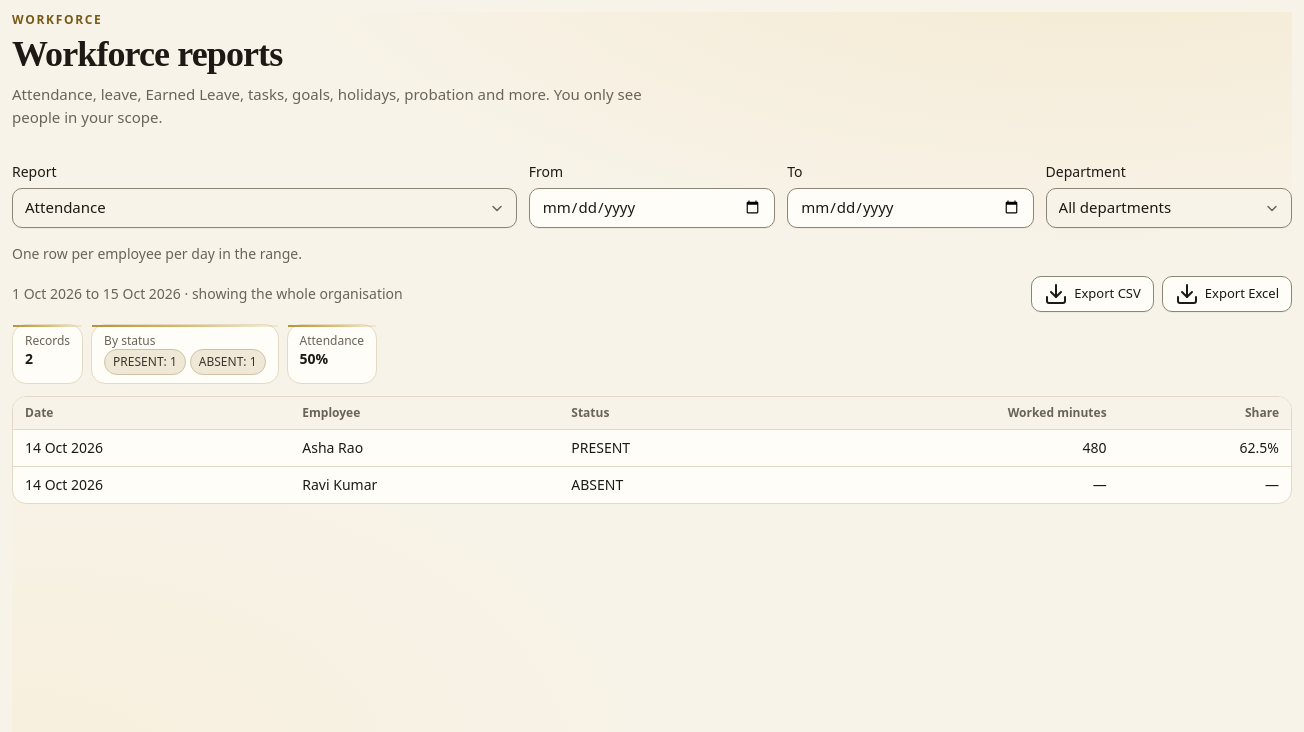
Test: ReportsPage › exports via an authenticated download, reports the row count, and shows a failure honestly
Click the button "Export CSV" at [1093, 294], box [1031, 276, 1154, 312]
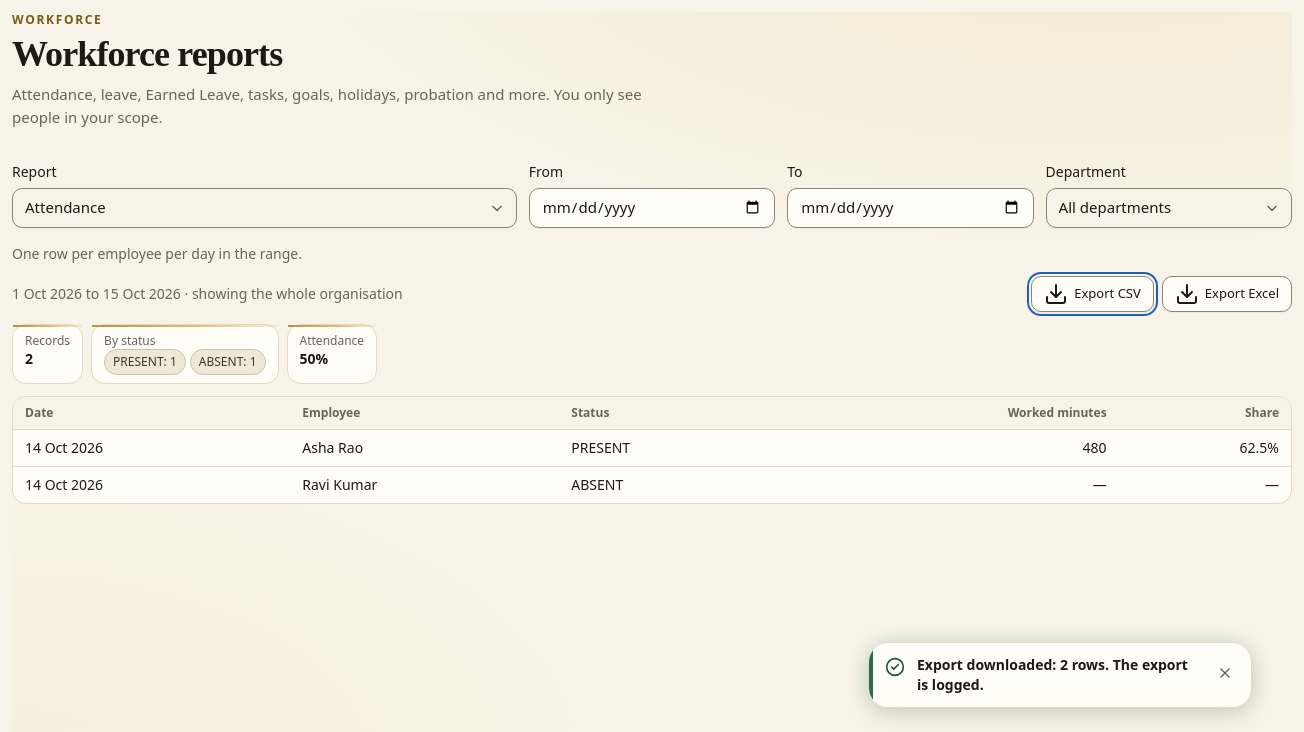
Expected: the text "Export downloaded: 2 rows. The export is logged." is shown, [917, 655, 1195, 695]
Click the button "Export Excel" at [1227, 294], box [1162, 276, 1292, 312]
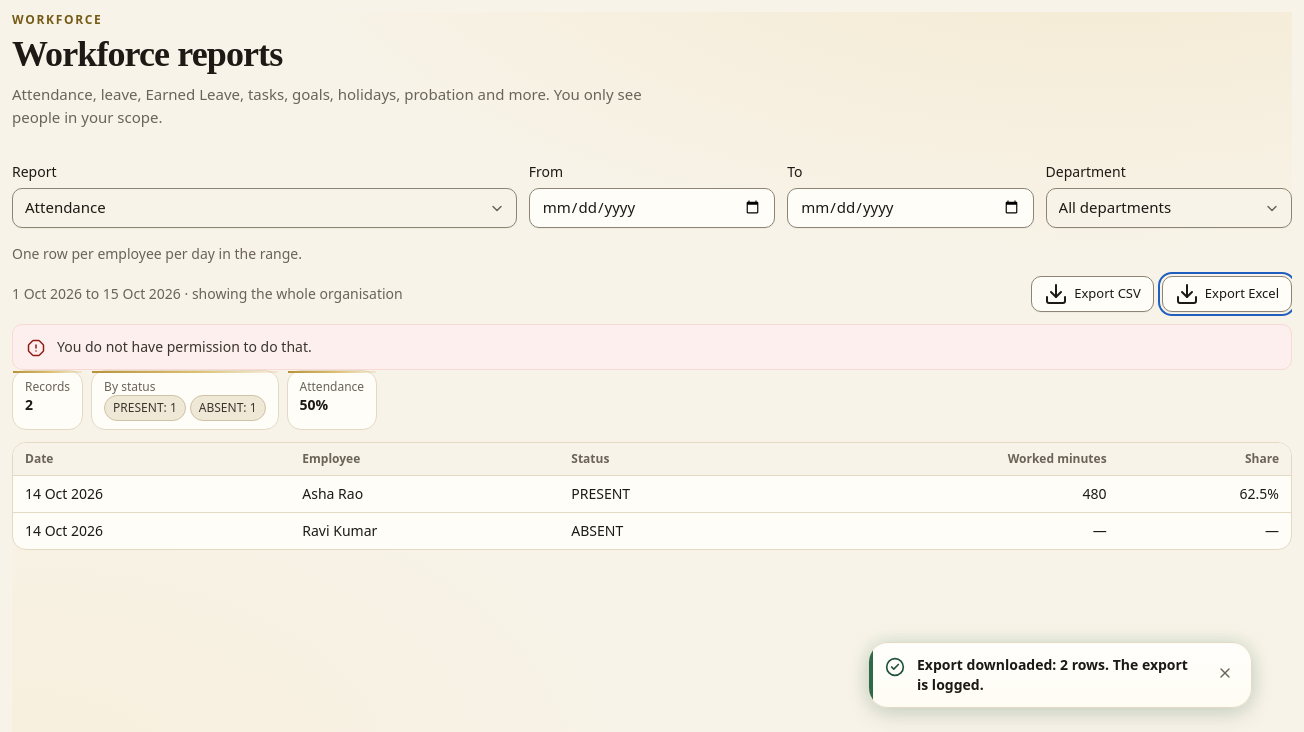
Expected: the text "You do not have permission to do that." is shown, [57, 336, 312, 356]
